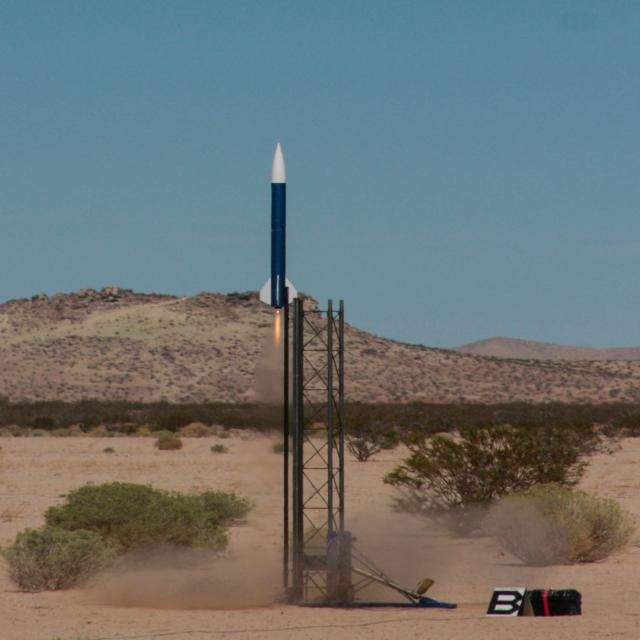Rocket: (259, 140, 299, 311)
